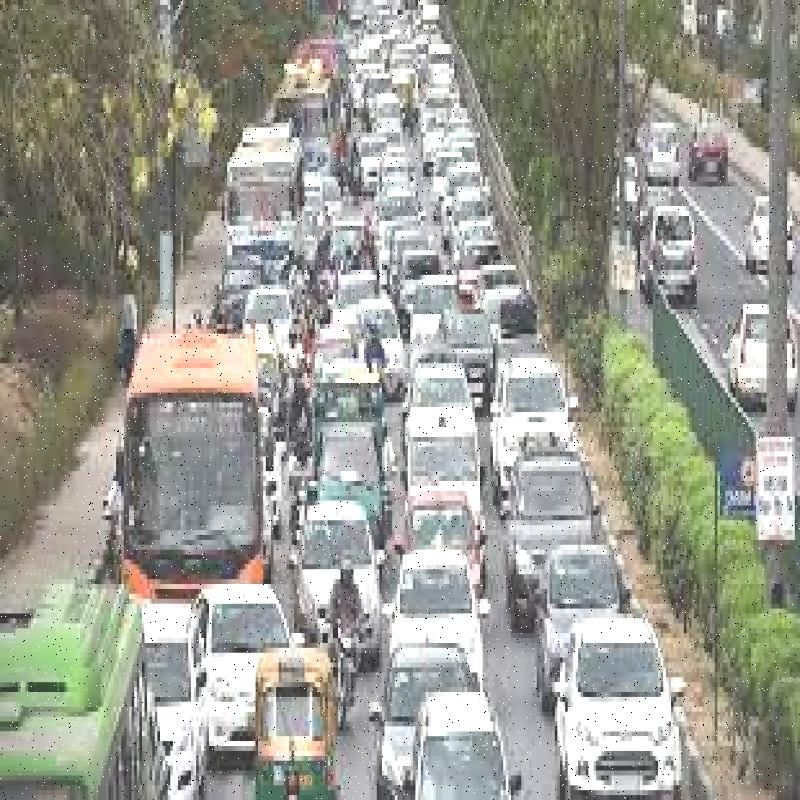auto: (242, 648, 340, 800)
bike: (327, 619, 361, 733)
bus: (97, 312, 267, 624), (0, 570, 138, 800)
car: (554, 579, 686, 796), (496, 443, 581, 638), (538, 519, 629, 692), (202, 574, 274, 782), (295, 481, 382, 642), (489, 330, 570, 493), (420, 666, 512, 800), (401, 551, 480, 672), (150, 596, 195, 800), (402, 477, 482, 577)
